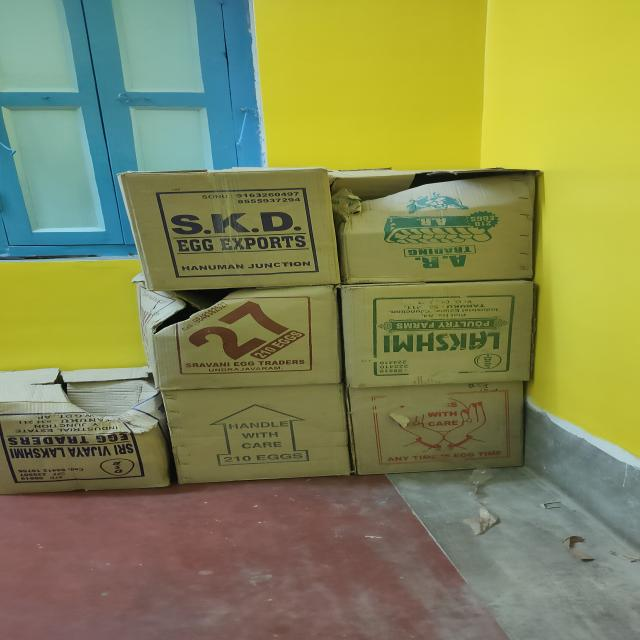squeeze: (272, 167, 548, 226), (57, 362, 183, 433), (131, 276, 253, 332)
